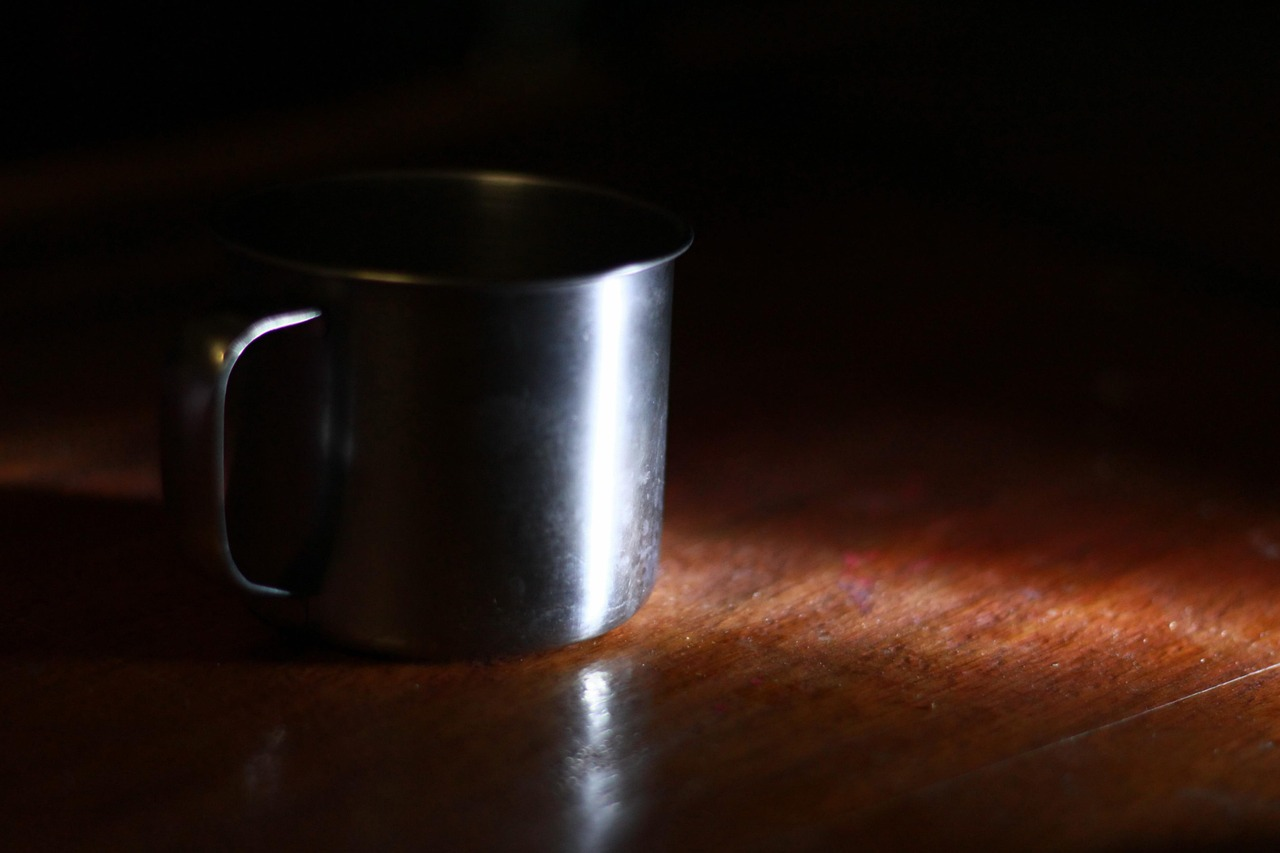mug: (138, 122, 744, 699)
